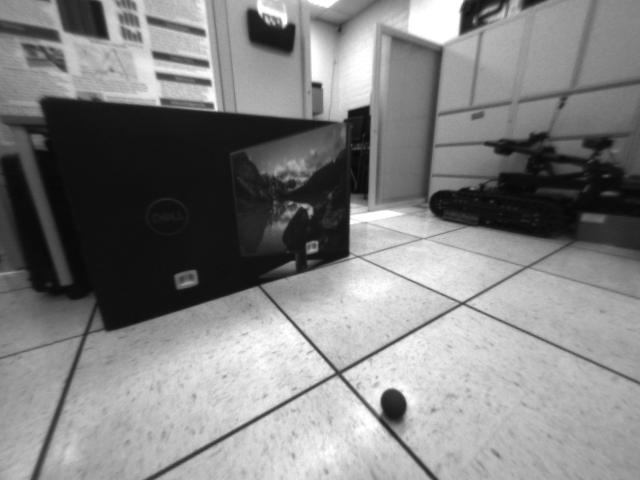dogtoy: (375, 383, 417, 427)
